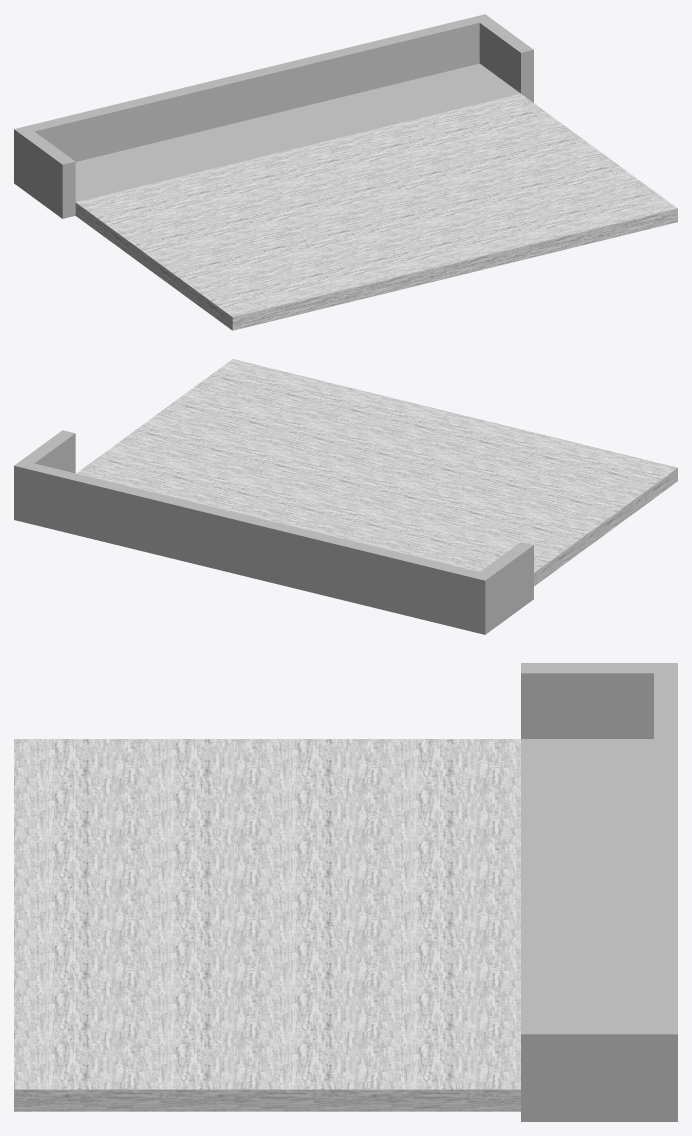
Rendered from Floor_3e4c5de1.obj.
The picture shows the model from 3 angles, top to bottom: view 1: azimuth 30°, elevation 25°; view 2: azimuth 150°, elevation 25°; view 3: azimuth 270°, elevation 25°; orthographic projection. The views are drawn at different scales.
Parts seen in each view (by area): view 1: mesh_b278d8db; view 2: mesh_b278d8db; view 3: mesh_b278d8db.
Part boxes in pixels (left/top/right/bottom): mesh_b278d8db: left=14, top=14, right=677, bottom=330; mesh_b278d8db: left=14, top=359, right=677, bottom=634; mesh_b278d8db: left=14, top=663, right=677, bottom=1121.
Bounding box in the file's own units: 7.27 × 0.8 × 5.5.
